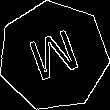M_S: (23, 25, 84, 88)
